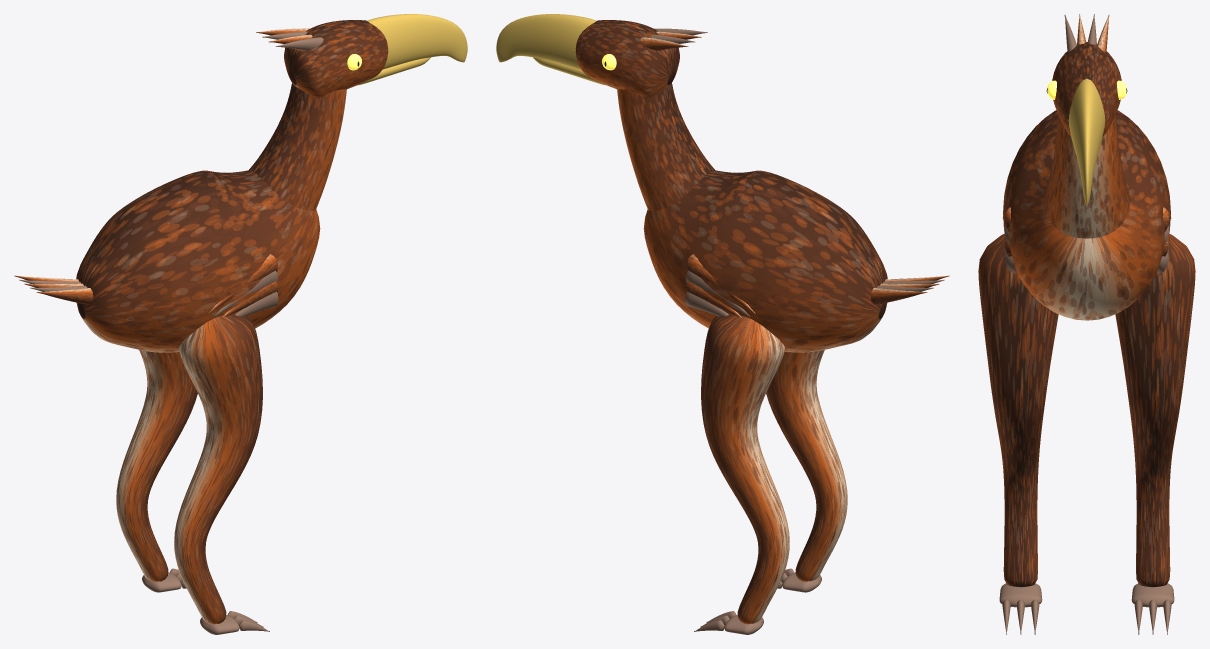
Rendered from terabird.glb.
The picture shows the model from 3 angles, left to right: view 1: azimuth 30°, elevation 25°; view 2: azimuth 150°, elevation 25°; view 3: azimuth 270°, elevation 25°; orthographic projection. The views are drawn at different scales.
Parts seen in each view (by area): view 1: Tera_Torso, Tera_Leg1, Tera_Leg0, Tera_Neck, Tera_Cranium, Tera_BeakUpper; view 2: Tera_Torso, Tera_Leg0, Tera_Leg1, Tera_Neck, Tera_Cranium, Tera_BeakUpper; view 3: Tera_Torso, Tera_Leg0, Tera_Leg1, Tera_Neck, Tera_Cranium, Tera_BeakUpper, Tera_FootPad0, Tera_FootPad1.
Part boxes in pixels (x1,y1,x2,y2): Tera_Torso: [76, 170, 320, 352]; Tera_Leg1: [174, 314, 262, 624]; Tera_Leg0: [116, 350, 197, 581]; Tera_Neck: [249, 83, 346, 210]; Tera_Cranium: [284, 20, 388, 98]; Tera_BeakUpper: [367, 14, 467, 69]; Tera_Torso: [643, 170, 887, 352]; Tera_Leg0: [701, 314, 789, 624]; Tera_Leg1: [766, 350, 847, 581]; Tera_Neck: [617, 83, 714, 210]; Tera_Cranium: [575, 20, 679, 98]; Tera_BeakUpper: [496, 14, 596, 69]; Tera_Torso: [1003, 110, 1170, 320]; Tera_Leg0: [1115, 233, 1195, 587]; Tera_Leg1: [978, 233, 1058, 587]; Tera_Neck: [1043, 114, 1130, 238]; Tera_Cranium: [1052, 42, 1121, 136]; Tera_BeakUpper: [1068, 79, 1105, 205]; Tera_FootPad0: [1131, 583, 1174, 607]; Tera_FootPad1: [999, 583, 1042, 607].
Size of the model in its own units: 3.27 by 3.94 by 1.22.
Materials: 5 (1 with a texture image).
